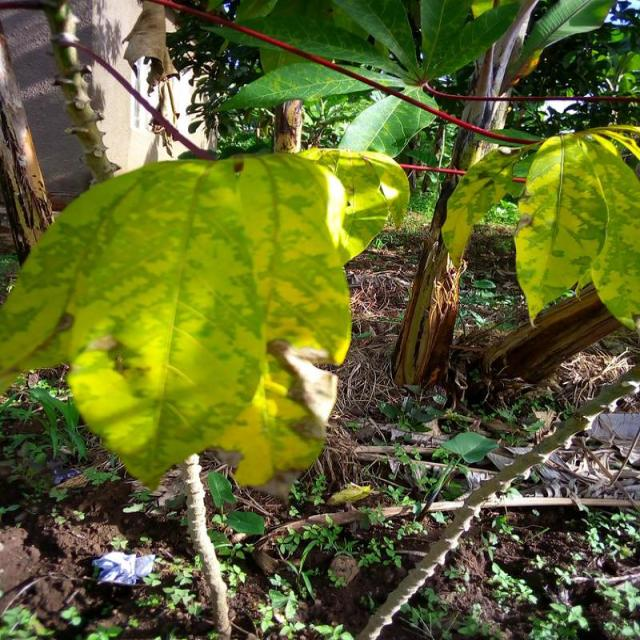cassava leaf: (0, 146, 409, 492), (512, 129, 638, 332)
